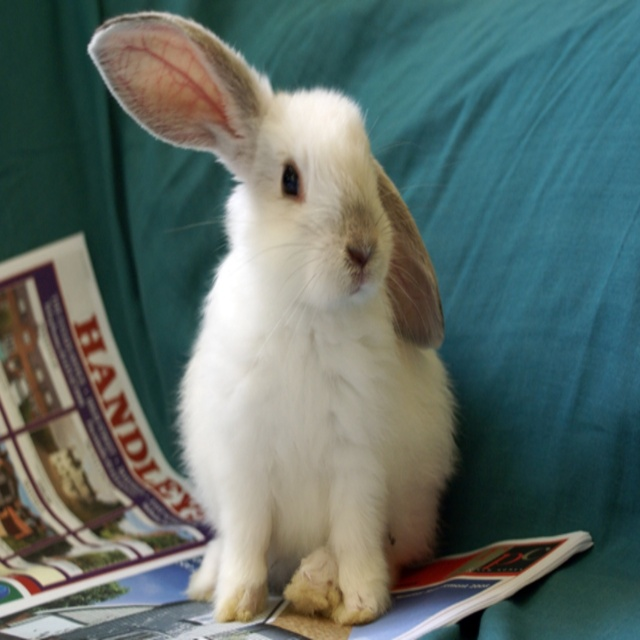Rabbit: (85, 14, 462, 626)
